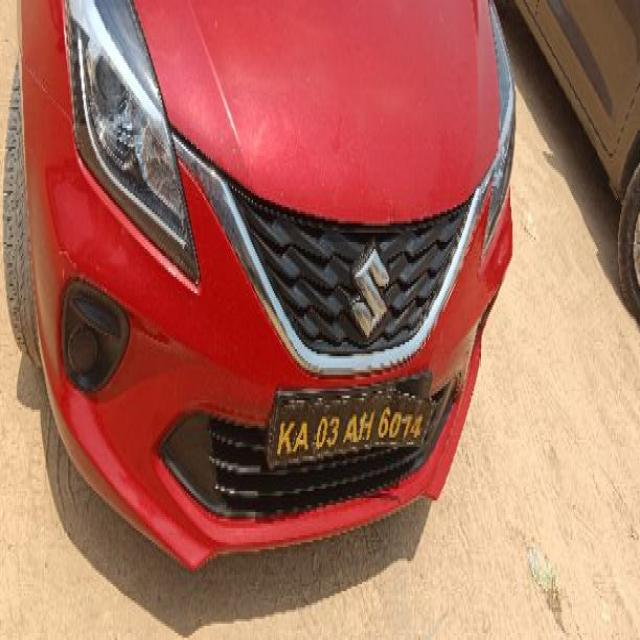license_plate: (7, 0, 517, 570), (264, 372, 435, 472)
